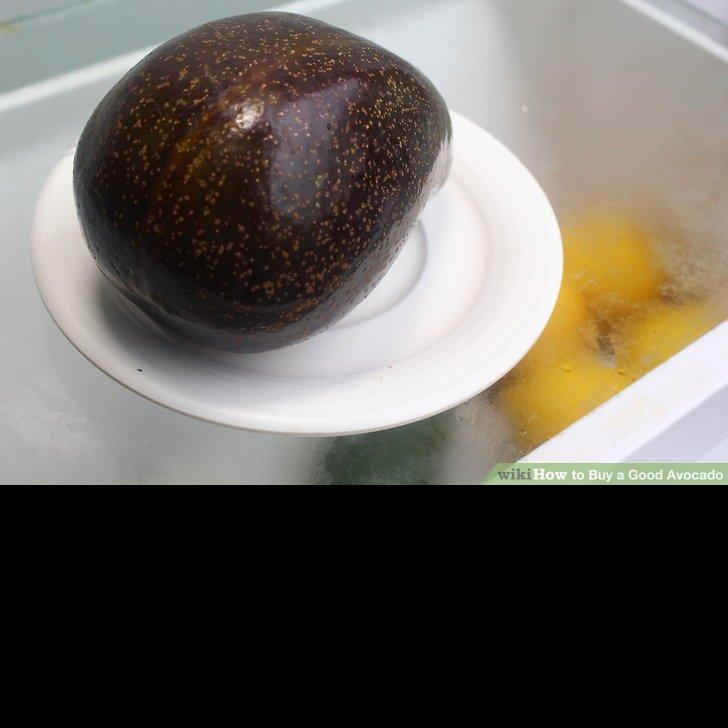ripe: (73, 11, 453, 353)
